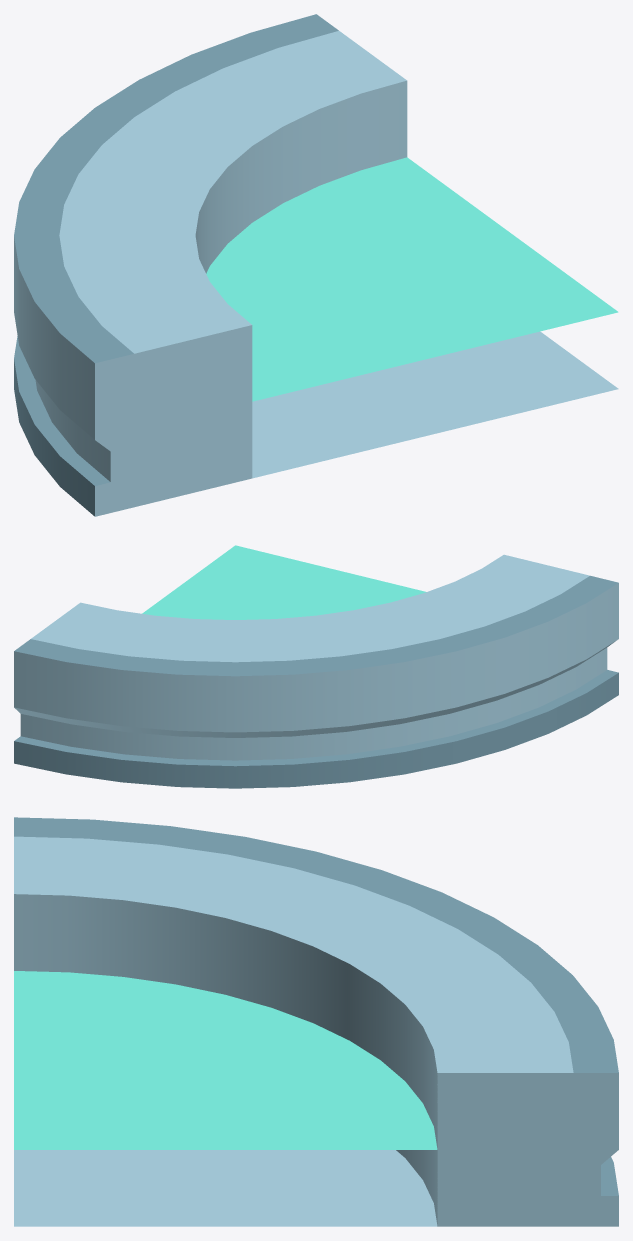
File: fountainCurved.fbx
3 views of the same model, one above another, from view 1: azimuth 30°, elevation 25°; view 2: azimuth 150°, elevation 25°; view 3: azimuth 270°, elevation 25° (orthographic). The views are drawn at different scales.
Parts seen in each view (by area): view 1: fountainCurved; view 2: fountainCurved; view 3: fountainCurved.
Boxes of the visible parts, x1,y1,x2,y2 form: fountainCurved: [14, 14, 618, 516]; fountainCurved: [14, 545, 618, 788]; fountainCurved: [14, 817, 618, 1226].
Bounding box in the file's own units: 10 × 2.8 × 10.
